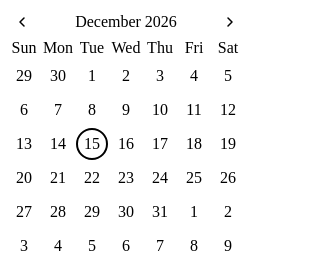
Test: Calendar › wraps from December to January of next year
What coordinates should you click on to do the following:
click the button named "Next month"
I would click on:
 (230, 22)
Its box is [216,8,244,36].
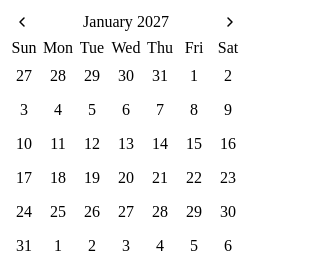
Expected: the text "January 2027" is shown, [83,13,169,31]
